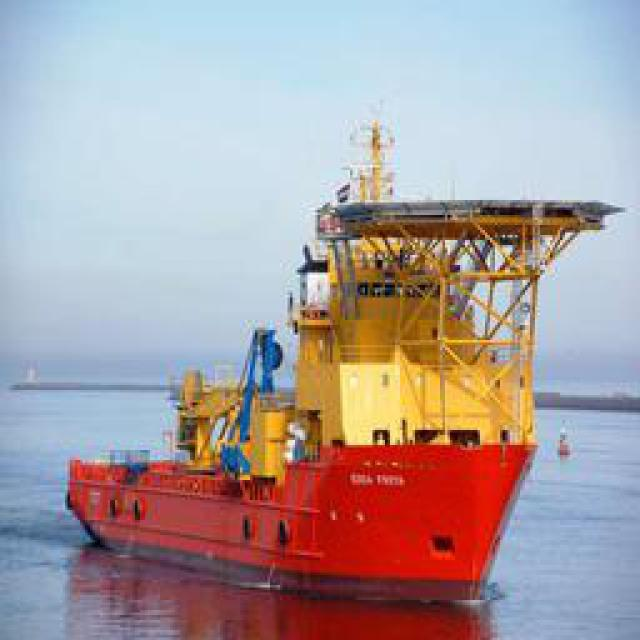Ship: (63, 140, 601, 585)
